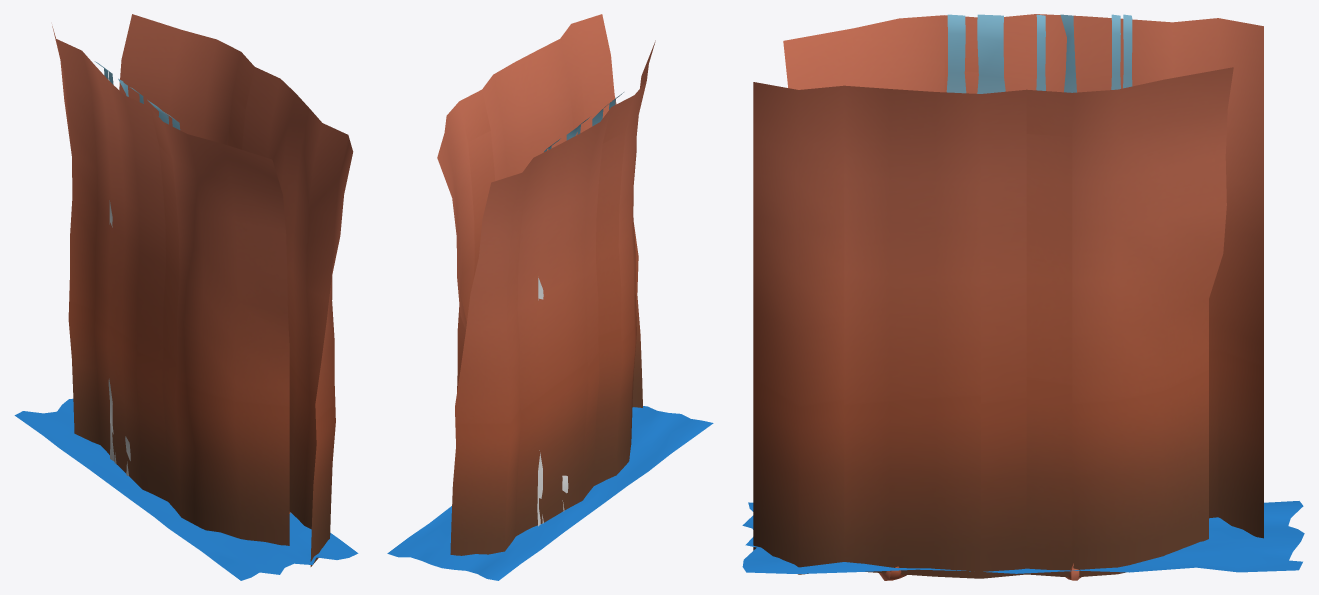
Rendered from Escher_env.fbx.
The picture shows the model from 3 angles, left to right: view 1: azimuth 30°, elevation 25°; view 2: azimuth 150°, elevation 25°; view 3: azimuth 270°, elevation 25°; orthographic projection. The views are drawn at different scales.
Visible parts, largest first — view 1: env, waterfall; view 2: env, waterfall; view 3: env, waterfall.
Part boxes in pixels (x1,y1,x2,y2): env: (14,14,358,580); waterfall: (94,61,180,475); env: (387,14,713,580); waterfall: (537,92,623,526); env: (742,14,1304,580); waterfall: (946,14,1132,93).
Bounding box in the file's own units: 212 × 618 × 617.
